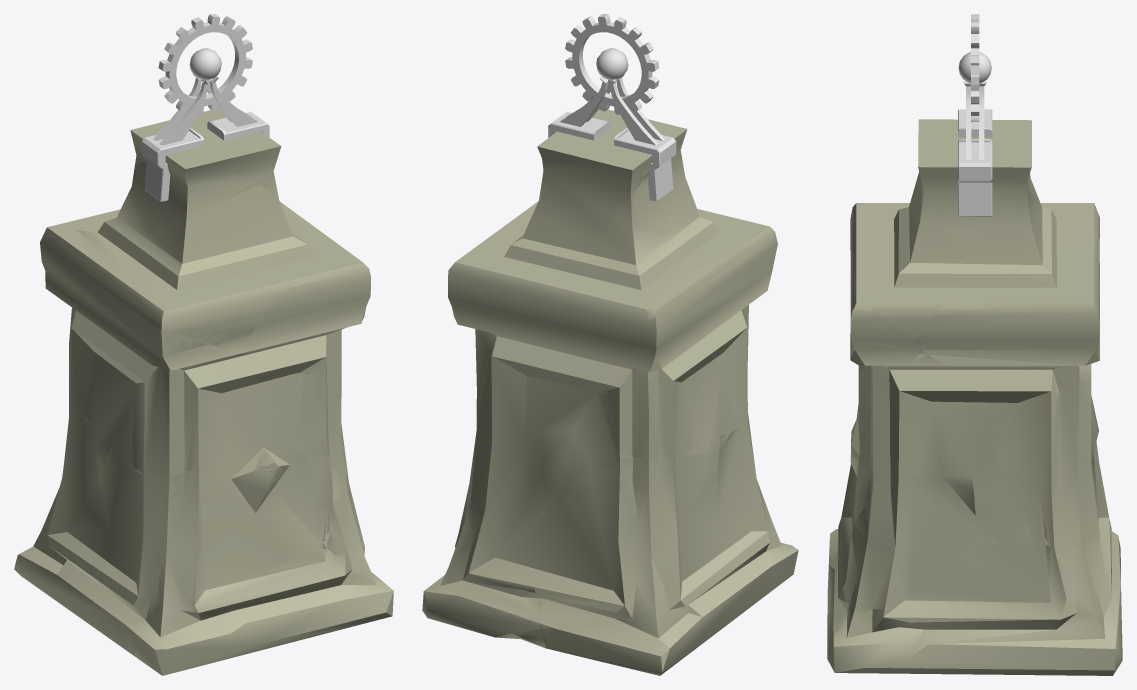
Rendered from Fracture_tower_Test.fbx.
3 renders of one model, left to right at view 1: azimuth 30°, elevation 25°; view 2: azimuth 150°, elevation 25°; view 3: azimuth 270°, elevation 25°, orthographic. The views are drawn at different scales.
Visible parts, largest first — view 1: Fracture_towerbody.001, Fracture_towerbody.001_cell.004, Fracture_towerbody.001_cell.018, Fracture_towerbody.001_cell.016, Fracture_towerbody.001_cell.009, Fracture_towerbody.001_cell.015, Fracture_gearpillar.001, Fracture_towerbody.001_cell.017, Fracture_gear.001, Fracture_towerbody.001_cell.019, Fracture_towerbody.001_cell.005, Fracture_towerbody.001_cell.010 (+4 smaller); view 2: Fracture_towerbody.001, Fracture_towerbody.001_cell.014, Fracture_towerbody.001_cell.016, Fracture_towerbody.001_cell.006, Fracture_towerbody.001_cell.013, Fracture_towerbody.001_cell.011, Fracture_gearpillar.001, Fracture_gear.001, Fracture_towerbody.001_cell.015, Fracture_towerbody.001_cell.009, Fracture_towerbody.001_cell.005; view 3: Fracture_towerbody.001, Fracture_towerbody.001_cell.013, Fracture_towerbody.001_cell.014, Fracture_towerbody.001_cell.007, Fracture_towerbody.001_cell.006, Fracture_towerbody.001_cell.008, Fracture_towerbody.001_cell.005, Fracture_gearpillar.001, Fracture_towerbody.001_cell.017, Fracture_towerbody.001_cell.009, Fracture_towerbody.001_cell.004, Fracture_towerbody.001_cell.019 (+5 smaller).
Boxes of the visible parts, <box> form: Fracture_towerbody.001: <box>14,109,393,675</box>; Fracture_towerbody.001_cell.004: <box>135,549,378,674</box>; Fracture_towerbody.001_cell.018: <box>150,468,326,604</box>; Fracture_towerbody.001_cell.016: <box>40,232,253,478</box>; Fracture_towerbody.001_cell.009: <box>117,156,356,284</box>; Fracture_towerbody.001_cell.015: <box>45,225,287,352</box>; Fracture_gearpillar.001: <box>142,74,269,201</box>; Fracture_towerbody.001_cell.017: <box>235,259,369,379</box>; Fracture_gear.001: <box>158,14,252,114</box>; Fracture_towerbody.001_cell.019: <box>276,349,341,458</box>; Fracture_towerbody.001_cell.005: <box>130,109,280,182</box>; Fracture_towerbody.001_cell.010: <box>273,440,335,541</box>; Fracture_towerbody.001: <box>424,109,798,675</box>; Fracture_towerbody.001_cell.014: <box>448,209,647,393</box>; Fracture_towerbody.001_cell.016: <box>605,269,770,459</box>; Fracture_towerbody.001_cell.006: <box>470,362,619,527</box>; Fracture_towerbody.001_cell.013: <box>422,483,547,647</box>; Fracture_towerbody.001_cell.011: <box>526,427,781,672</box>; Fracture_gearpillar.001: <box>548,74,676,201</box>; Fracture_gear.001: <box>565,14,659,114</box>; Fracture_towerbody.001_cell.015: <box>620,224,773,319</box>; Fracture_towerbody.001_cell.009: <box>528,129,699,264</box>; Fracture_towerbody.001_cell.005: <box>544,110,658,229</box>; Fracture_towerbody.001: <box>827,119,1122,675</box>; Fracture_towerbody.001_cell.013: <box>827,542,1122,675</box>; Fracture_towerbody.001_cell.014: <box>921,209,1099,395</box>; Fracture_towerbody.001_cell.007: <box>843,458,996,619</box>; Fracture_towerbody.001_cell.006: <box>944,369,1100,547</box>; Fracture_towerbody.001_cell.008: <box>902,354,1034,544</box>; Fracture_towerbody.001_cell.005: <box>918,120,1036,261</box>; Fracture_gearpillar.001: <box>958,81,992,216</box>; Fracture_towerbody.001_cell.017: <box>850,270,918,387</box>; Fracture_towerbody.001_cell.009: <box>856,171,1030,337</box>; Fracture_towerbody.001_cell.004: <box>827,512,851,654</box>; Fracture_towerbody.001_cell.019: <box>857,385,892,479</box>.
Bounding box in the file's own units: 105 × 236 × 106.
